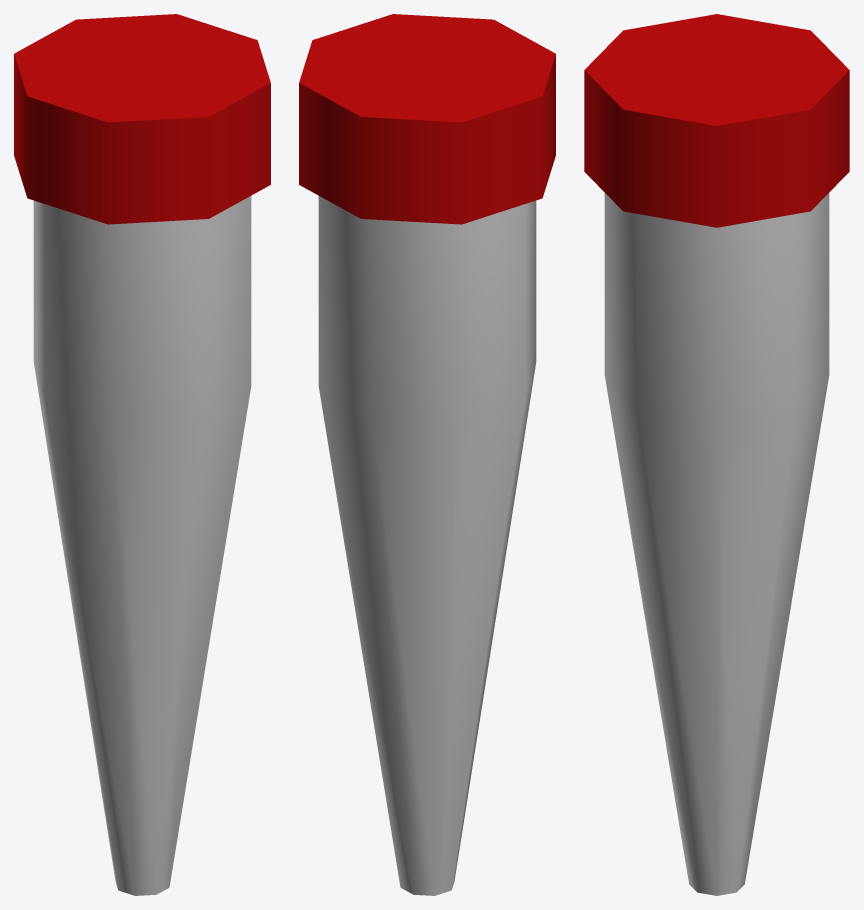
File: PlasticVial02.fbx
The picture shows the model from 3 angles, left to right: view 1: azimuth 30°, elevation 25°; view 2: azimuth 150°, elevation 25°; view 3: azimuth 270°, elevation 25°; orthographic projection.
Visible parts, largest first — view 1: PlasticVial02; view 2: PlasticVial02; view 3: PlasticVial02.
Boxes of the visible parts, box(x1,y1,x2,y2) form: PlasticVial02: box(14, 14, 270, 895); PlasticVial02: box(299, 14, 555, 895); PlasticVial02: box(584, 14, 849, 895).
Bounding box in the file's own units: 2.95 × 2.95 × 10.
